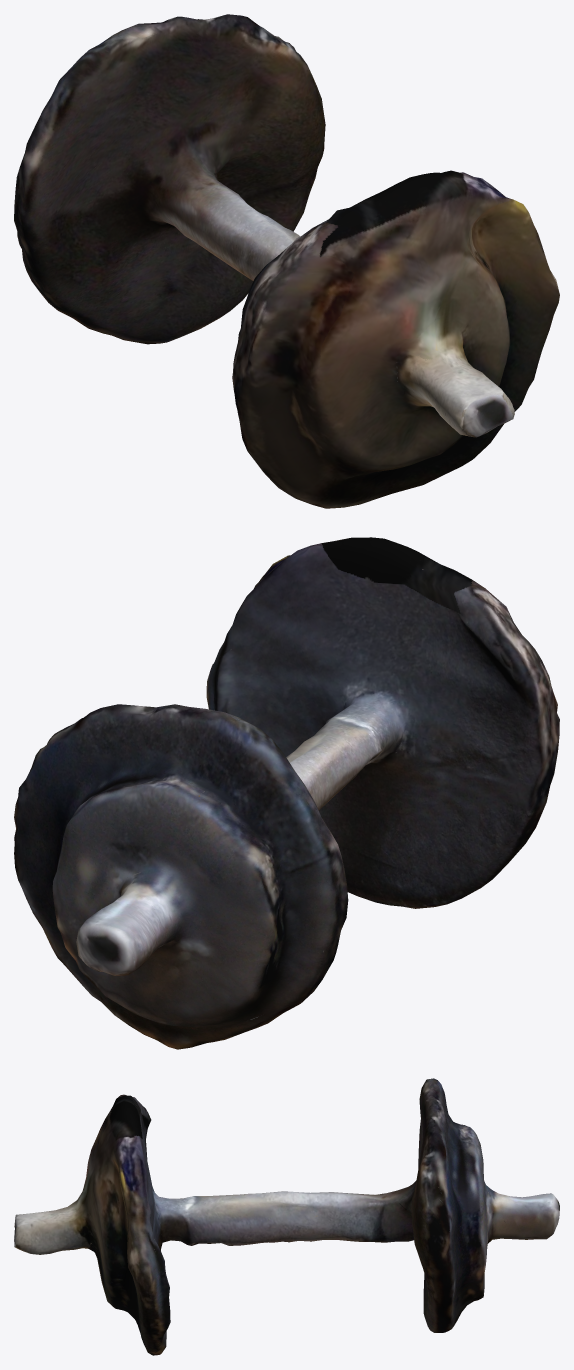
Rendered from dumbbell.fbx.
The picture shows the model from 3 angles, top to bottom: view 1: azimuth 30°, elevation 25°; view 2: azimuth 150°, elevation 25°; view 3: azimuth 270°, elevation 25°; orthographic projection. The views are drawn at different scales.
Parts seen in each view (by area): view 1: dumbbell; view 2: dumbbell; view 3: dumbbell.
Boxes of the visible parts, <box> form: dumbbell: <box>14,14,559,508</box>; dumbbell: <box>14,537,559,1049</box>; dumbbell: <box>14,1078,559,1355</box>.
Size of the model in its own units: 20.95 by 20.44 by 42.34.
